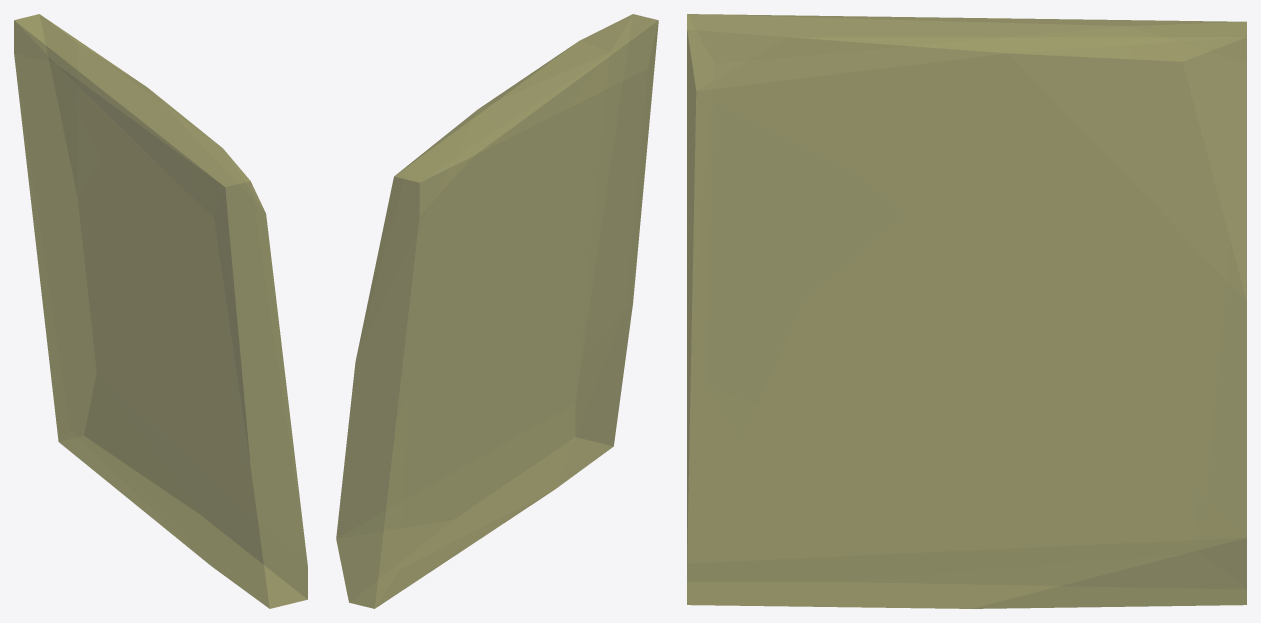
The picture shows the model from 3 angles, left to right: view 1: azimuth 30°, elevation 25°; view 2: azimuth 150°, elevation 25°; view 3: azimuth 270°, elevation 25°; orthographic projection. The views are drawn at different scales.
Parts seen in each view (by area): view 1: Shape_IndexedFaceSet.006_Shape_IndexedFaceSet.15211; view 2: Shape_IndexedFaceSet.006_Shape_IndexedFaceSet.15211; view 3: Shape_IndexedFaceSet.006_Shape_IndexedFaceSet.15211.
Boxes of the visible parts, <box> form: Shape_IndexedFaceSet.006_Shape_IndexedFaceSet.15211: <box>14,14,307,608</box>; Shape_IndexedFaceSet.006_Shape_IndexedFaceSet.15211: <box>336,14,658,608</box>; Shape_IndexedFaceSet.006_Shape_IndexedFaceSet.15211: <box>687,14,1246,608</box>.
Size of the model in its own units: 0.00653 by 0.0283 by 0.0265.
